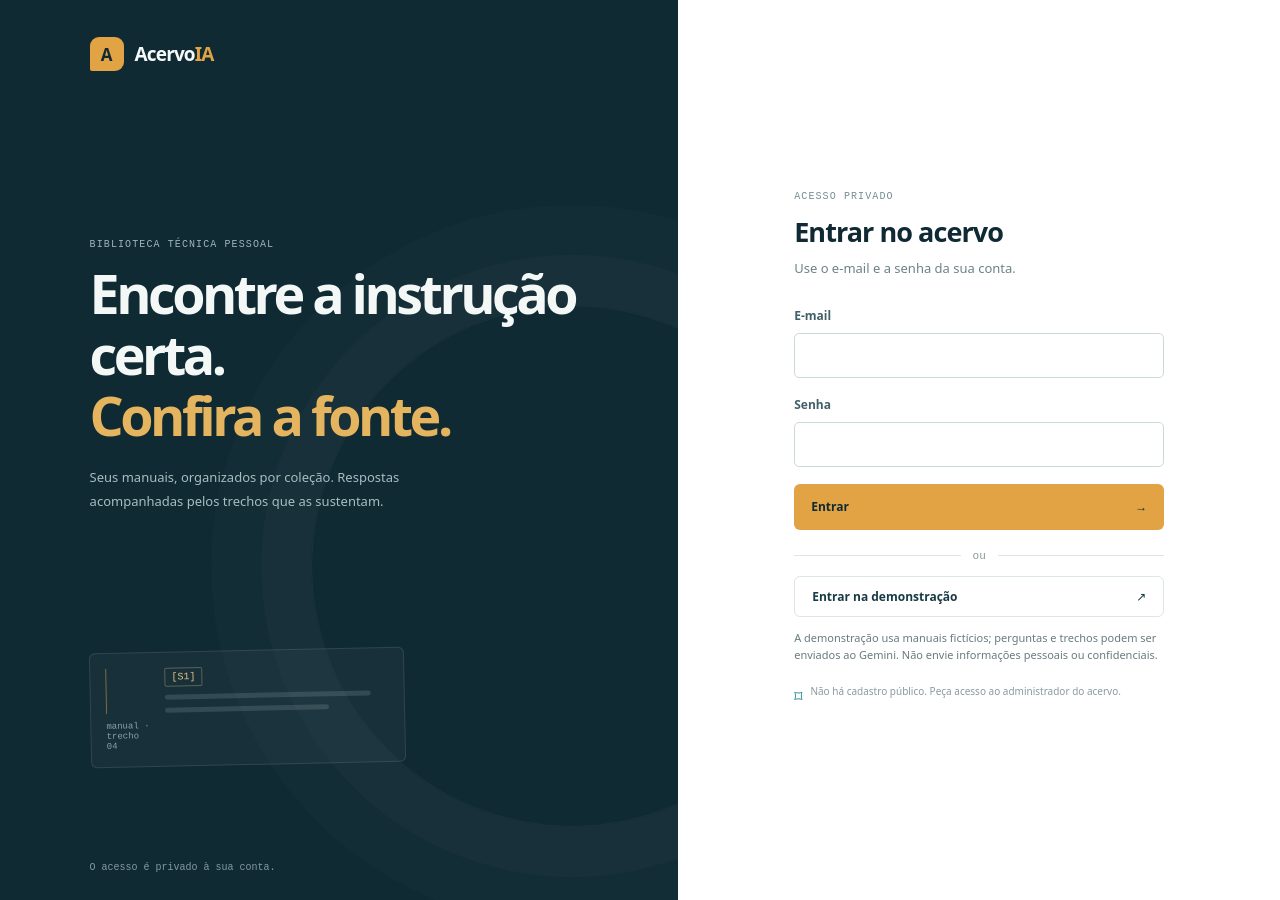
Test case: AcervoIA web flows › logs in and guides an empty account to create its first collection
In the field labelled "E-mail": coordinates (979, 355) left=794, top=333, right=1164, bottom=378, type "tecnica@example.test"
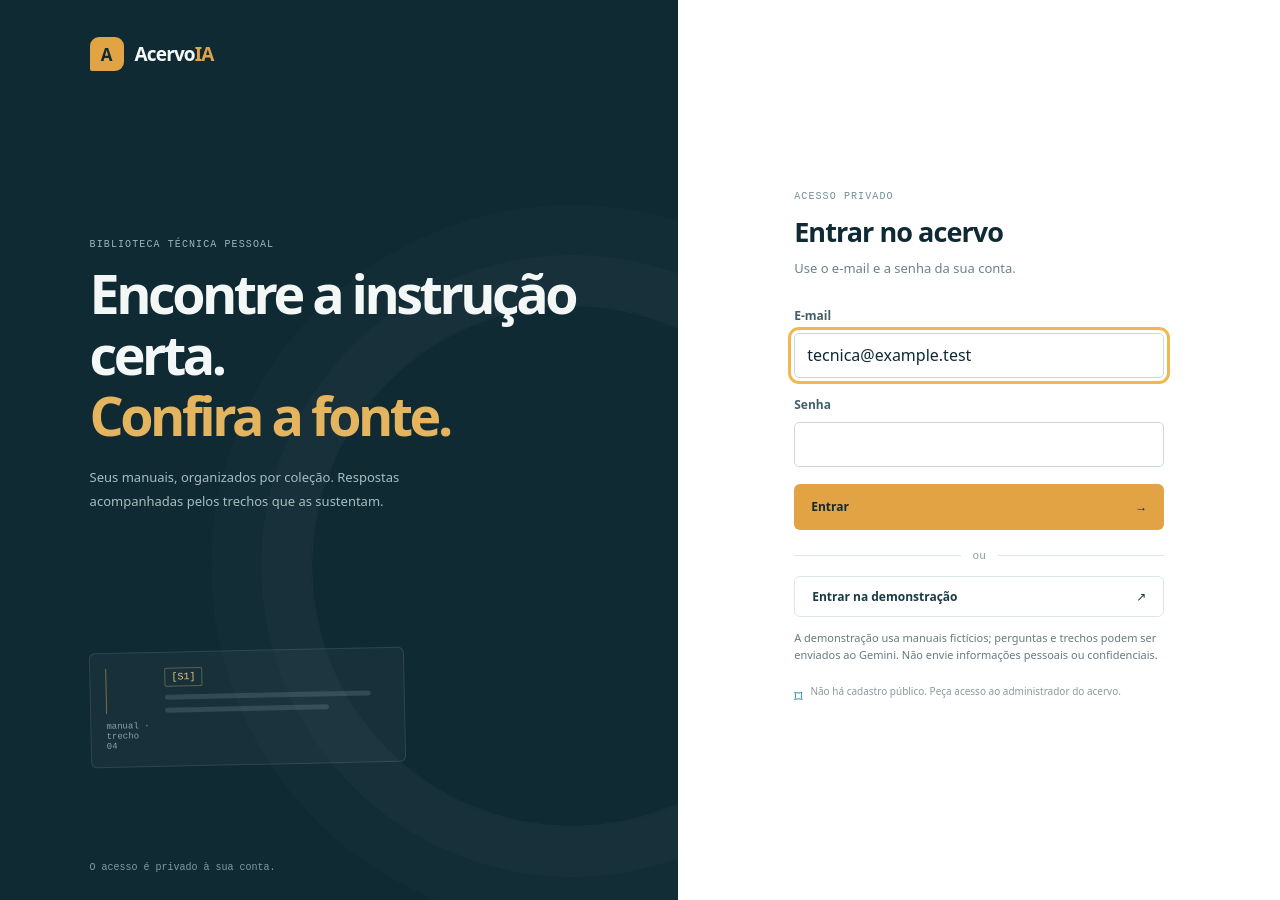
In the password field labelled "Senha": coordinates (979, 444) left=794, top=422, right=1164, bottom=467, type "private-password"
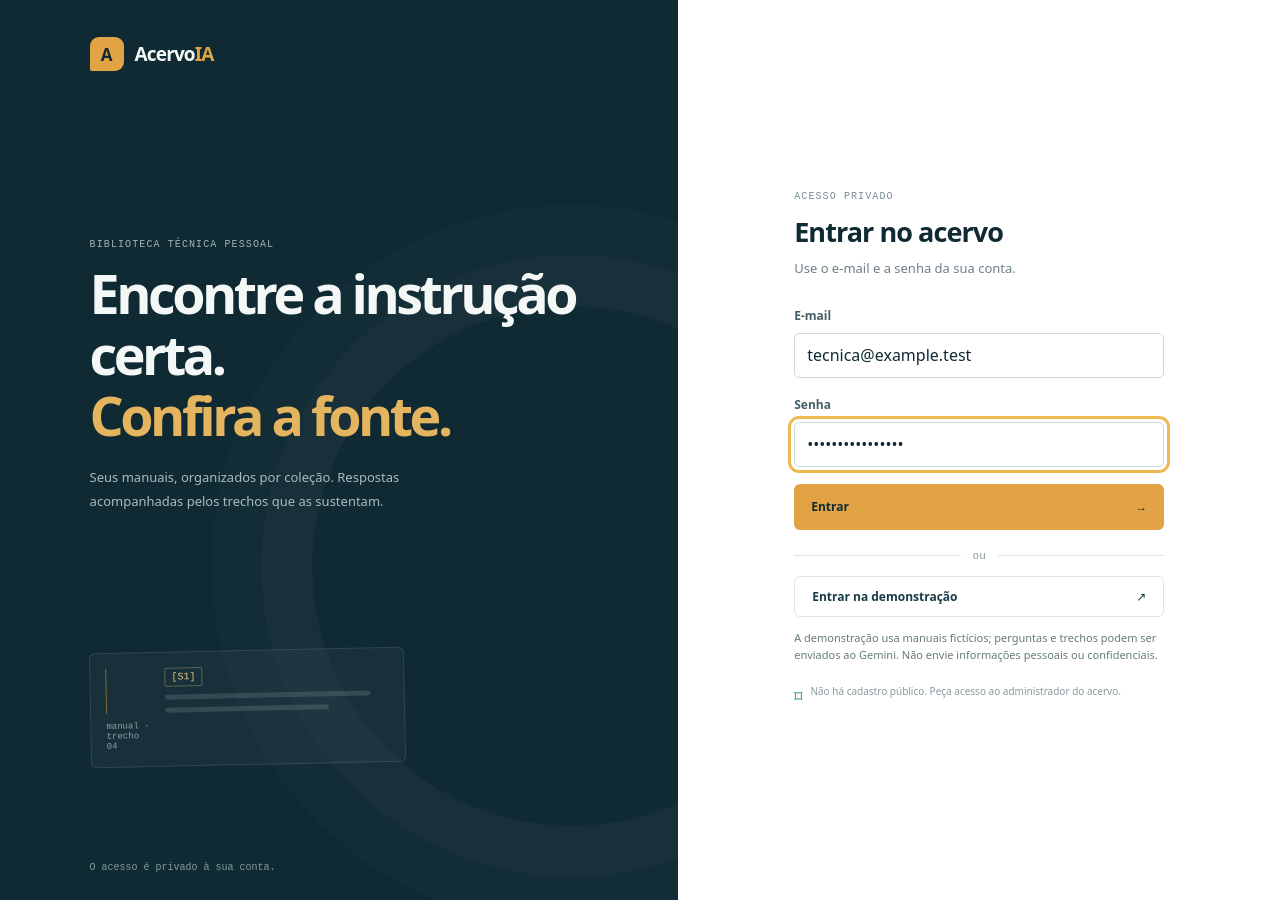
Click the button "Entrar →": coordinates (830, 507) left=794, top=484, right=1164, bottom=530
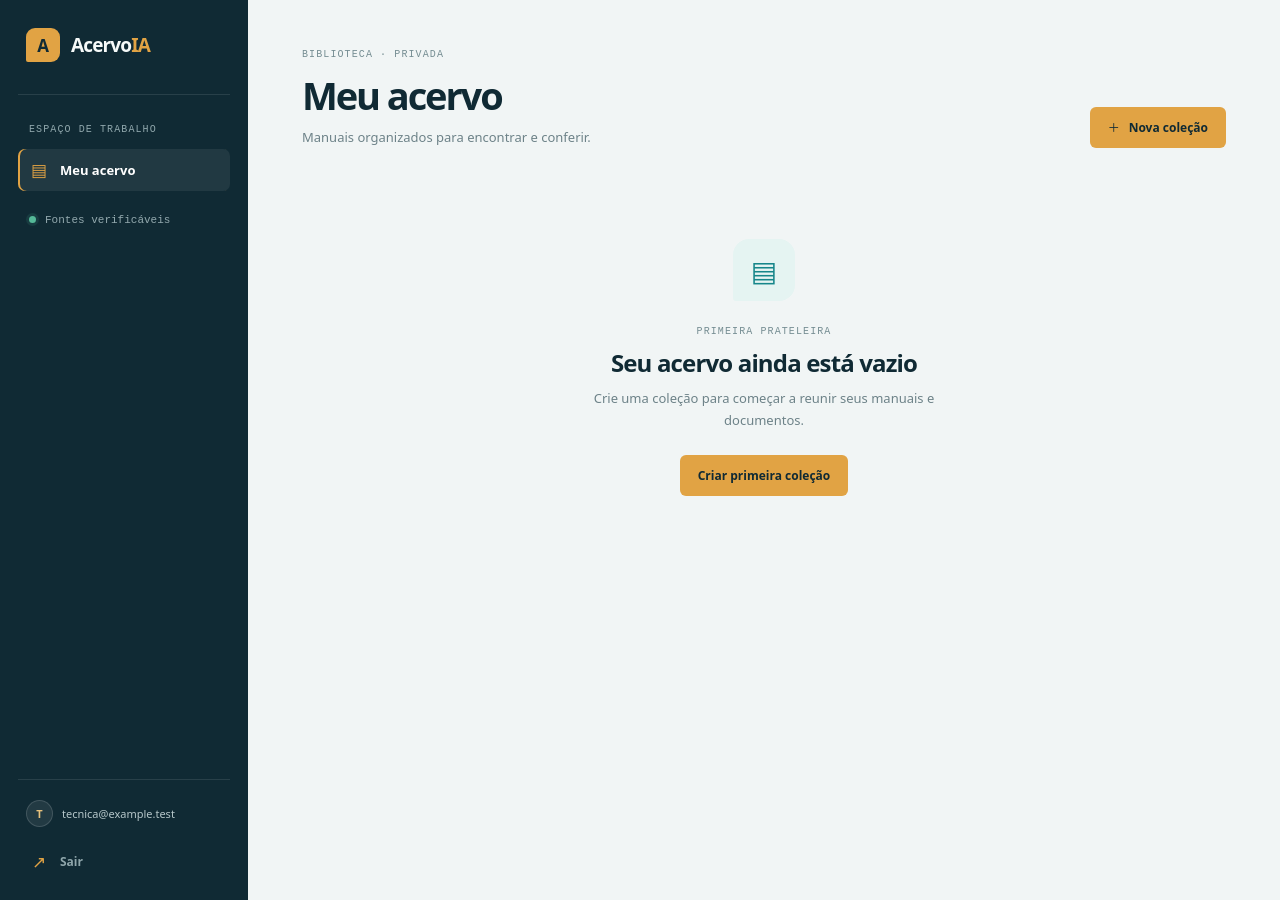
Expected: the heading "Seu acervo ainda está vazio" is shown, left=611, top=347, right=917, bottom=378
Click the button "Criar primeira coleção": coordinates (764, 475) left=680, top=454, right=848, bottom=496
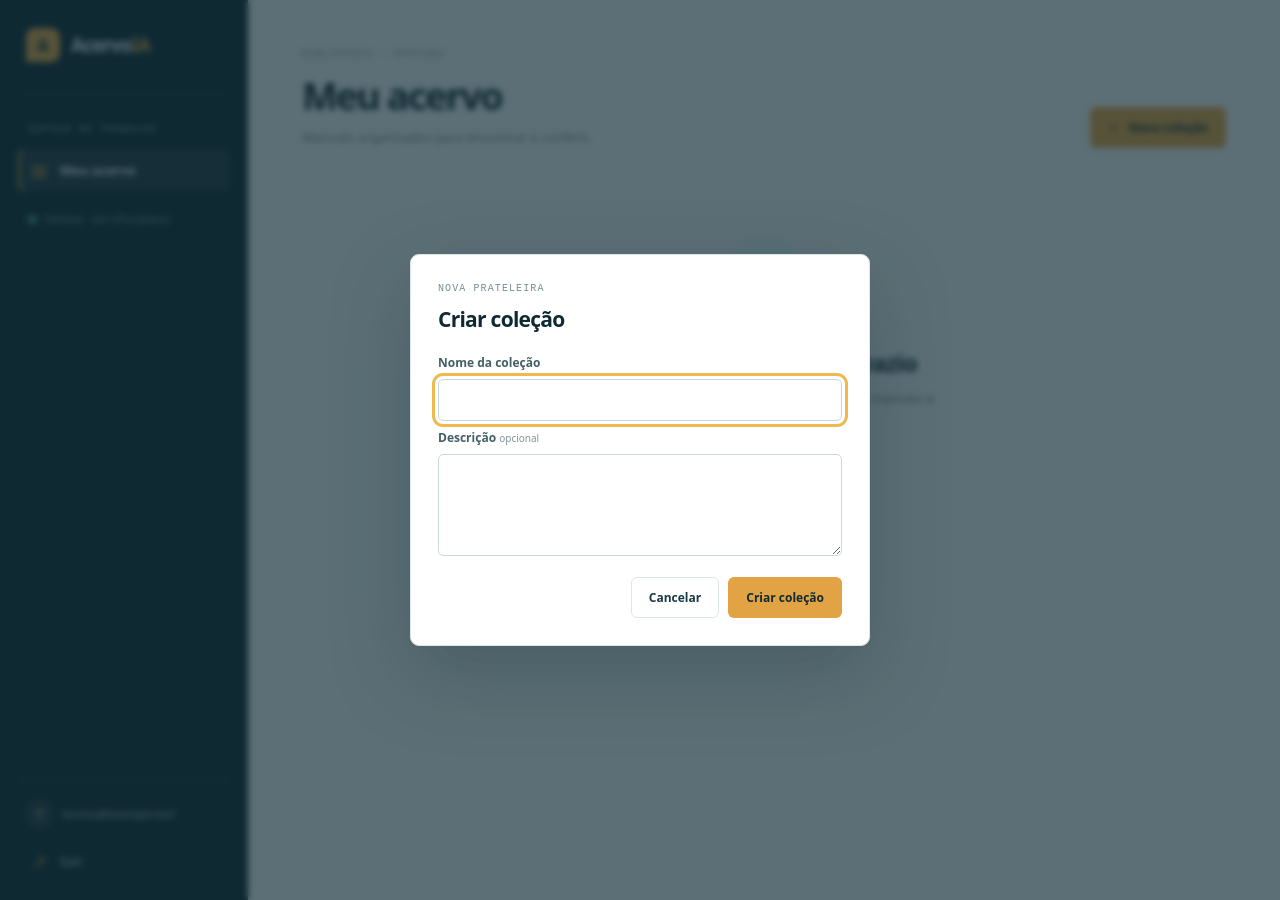
In the field labelled "Nome da coleção": coordinates (640, 400) left=438, top=378, right=842, bottom=420, type "Guias de bancada"
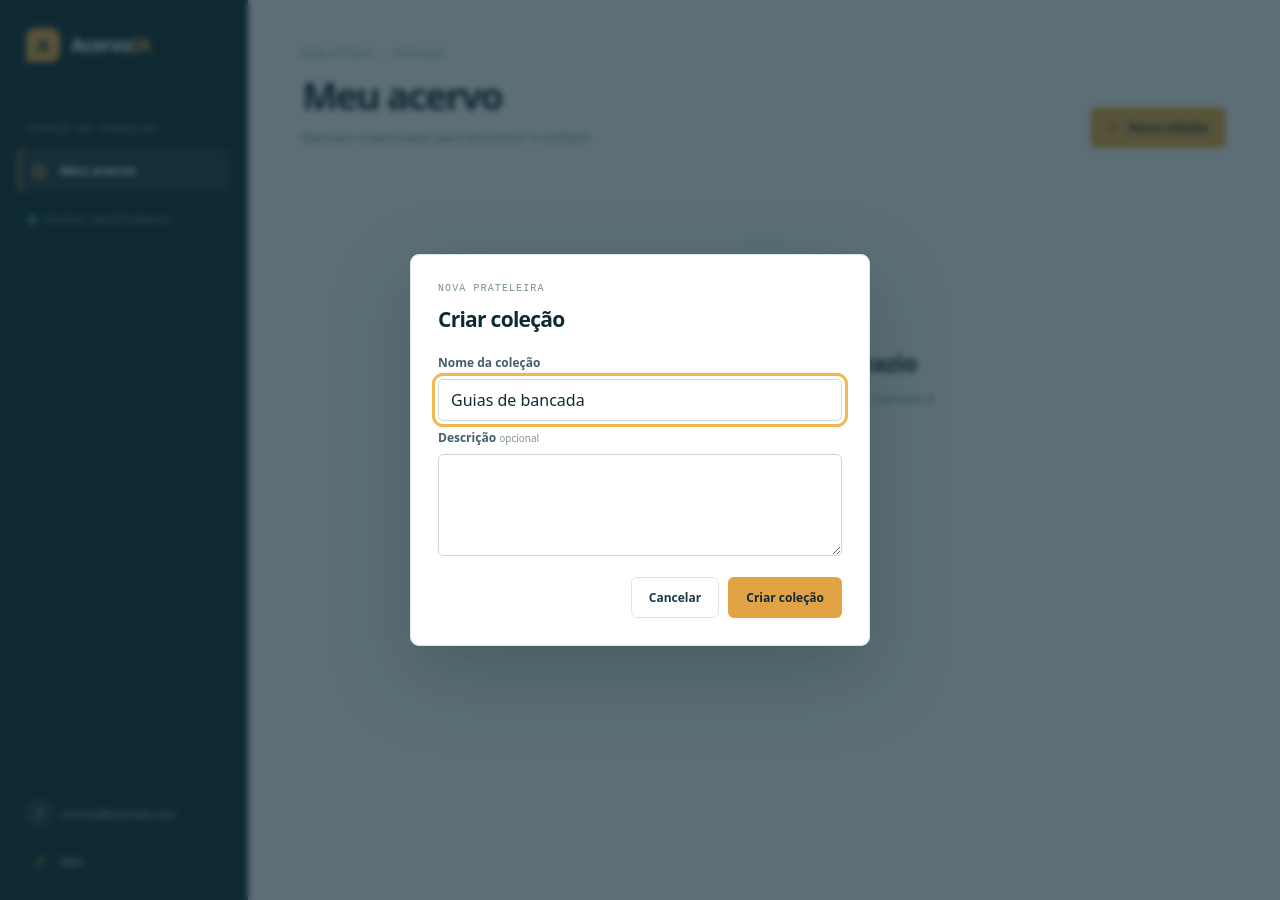
Click the button "Criar coleção": coordinates (785, 598) left=728, top=577, right=842, bottom=618
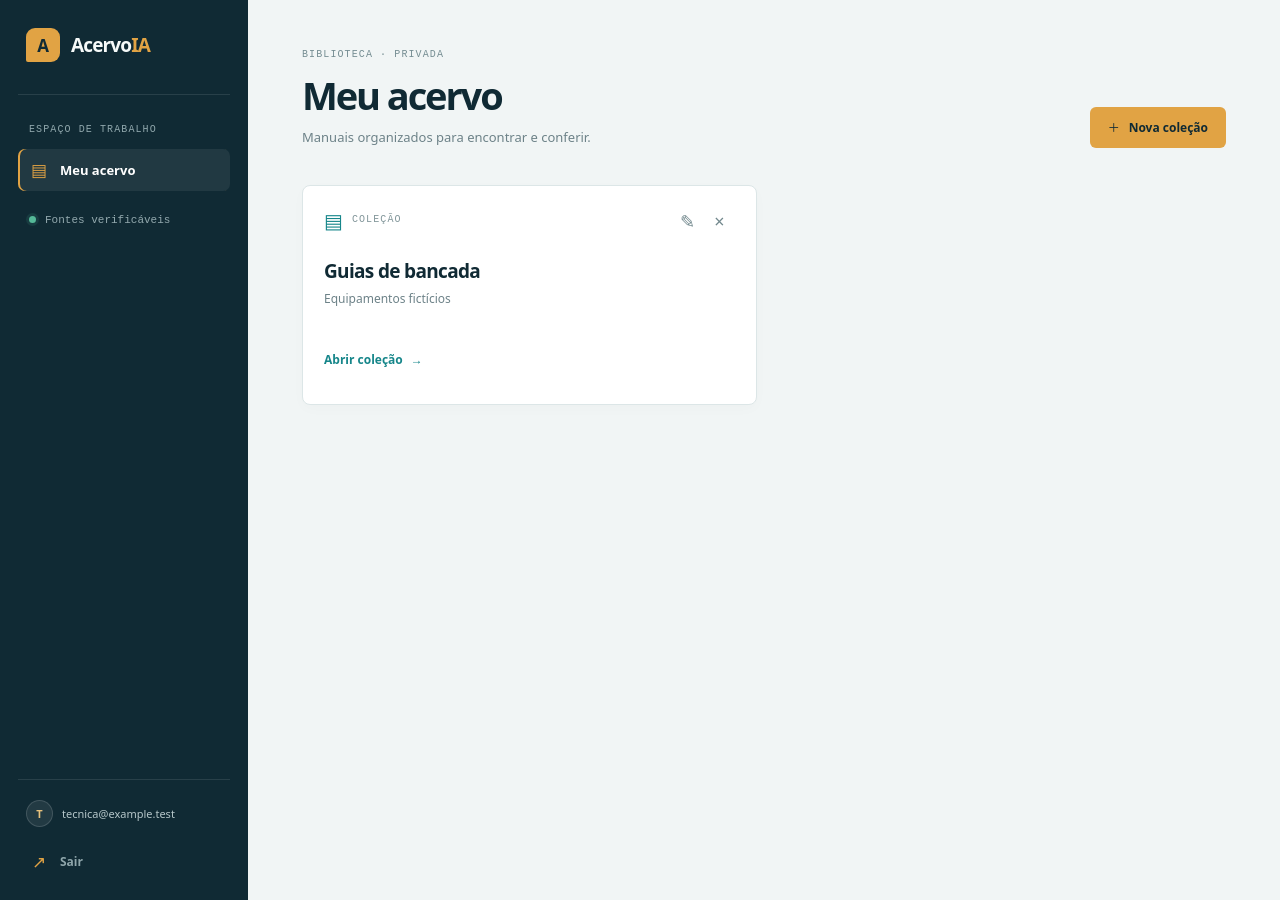
Expected: the heading "Guias de bancada" is shown, left=324, top=258, right=480, bottom=284
